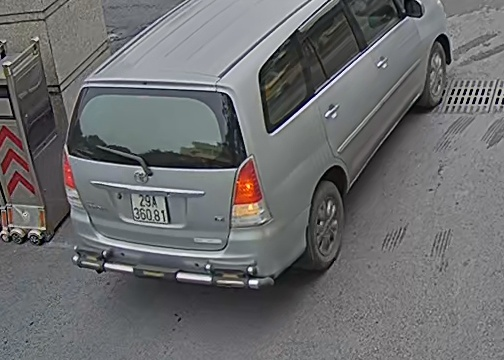vehicle plate: (128, 189, 168, 222)
